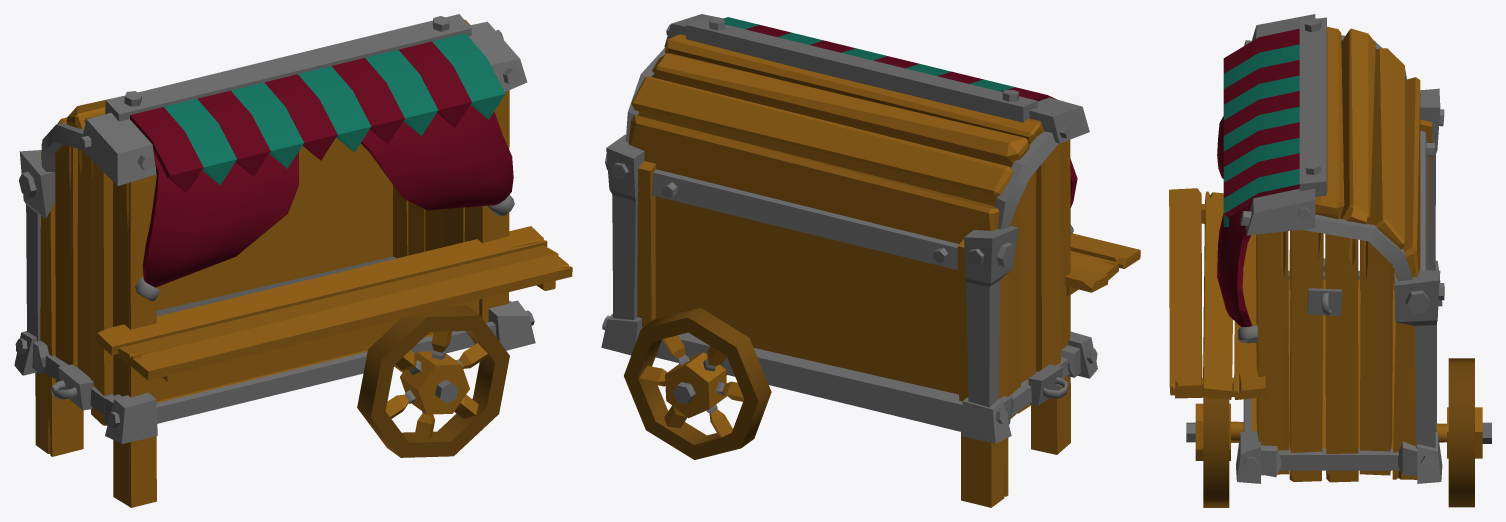
File: LojaMacaco.fbx
3 renders of one model, left to right at view 1: azimuth 30°, elevation 25°; view 2: azimuth 150°, elevation 25°; view 3: azimuth 270°, elevation 25°, orthographic. The views are drawn at different scales.
Parts seen in each view (by area): view 1: Loja; view 2: Loja; view 3: Loja.
Boxes of the visible parts, <box> form: Loja: <box>14,14,572,507</box>; Loja: <box>601,14,1140,507</box>; Loja: <box>1169,14,1491,507</box>.
Bounding box in the file's own units: 432 × 359 × 287.
